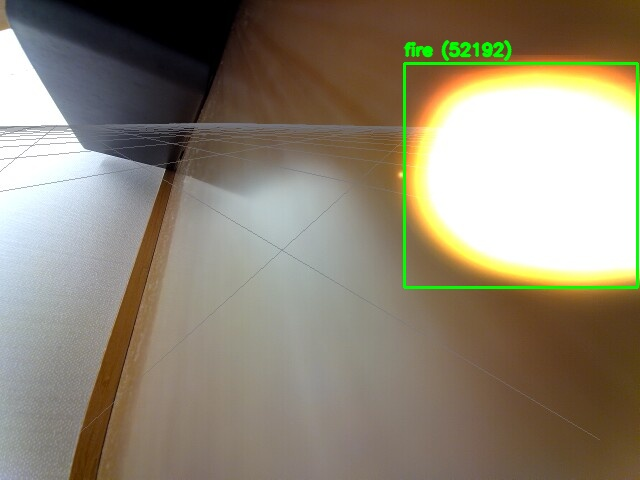fire: (404, 63, 637, 287)
